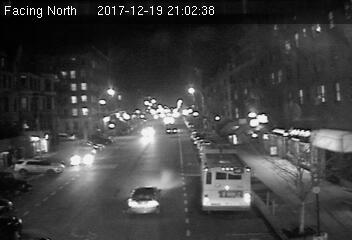bus: (199, 145, 252, 212)
car: (127, 185, 162, 213), (69, 149, 95, 167), (164, 124, 178, 134)
